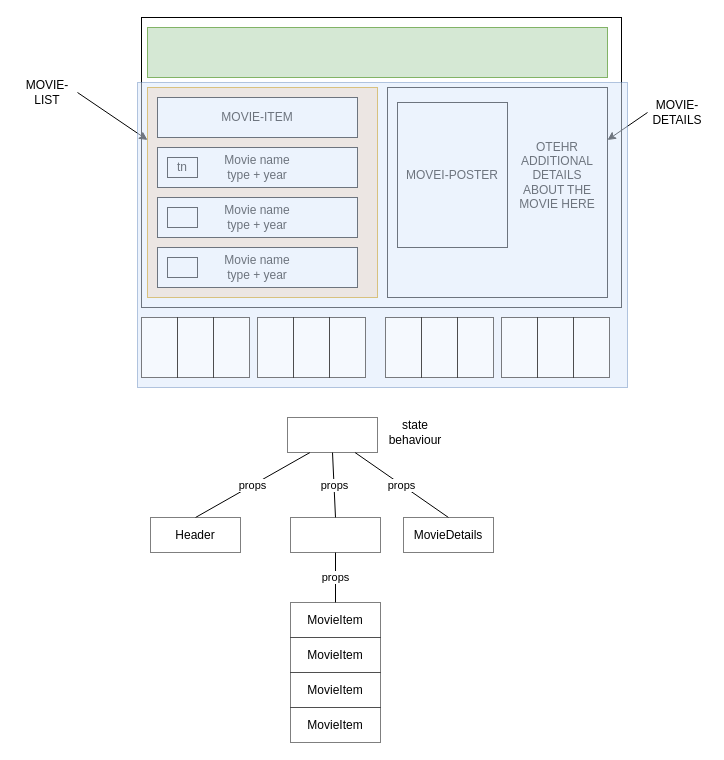
Some shapes in this 724 by 760 pixel diagram are drawn without their labels. Here are the shapes that lost their labels. From the top down, the box of each, then its label:
(146, 26, 608, 78): HEADER + SEARCH BOX
(286, 416, 378, 452): App
(290, 516, 380, 552): MovieList
